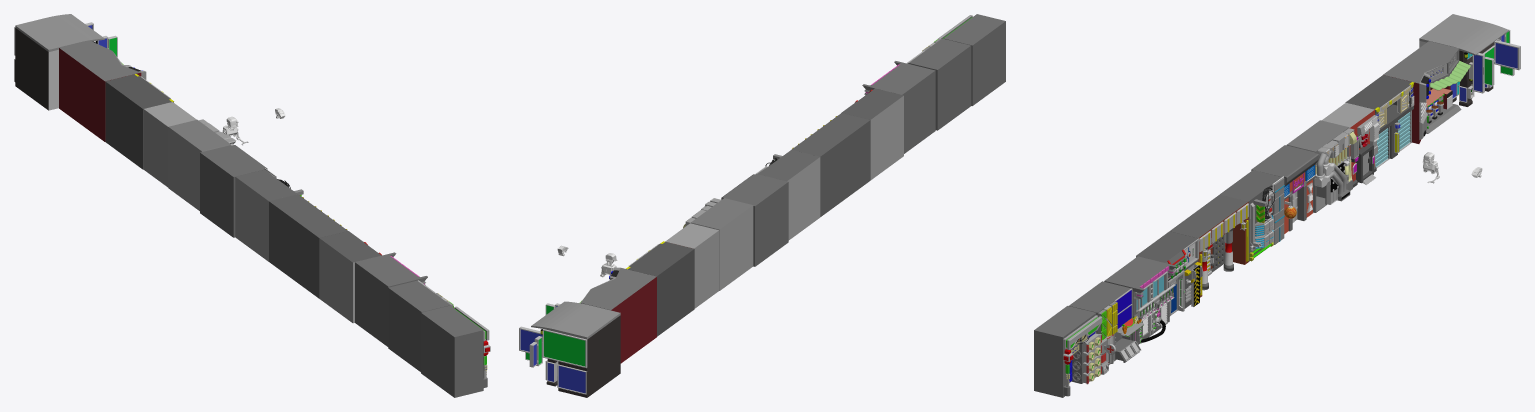
The model's file is Cyberpunk Street Low Poly.fbx.
3 renders of one model, left to right at view 1: azimuth 30°, elevation 25°; view 2: azimuth 150°, elevation 25°; view 3: azimuth 330°, elevation 25°, orthographic.
Parts seen in each view (by area): view 1: BezierCurve, Cube.005, Plane.007, Plane.003, Plane, Plane.002, Plane.008, Plane.004, Plane.006, Cube.008, Plane.009, Plane.001; view 2: Cube.005, Plane.007, Plane.003, Plane, Plane.004, Plane.002, Plane.009, BezierCurve, Plane.008, Cube.008, Plane.006, Plane.001; view 3: BezierCurve, Cube.005, Plane.003, Plane.007, Plane.004, Plane.008, Plane, Plane.009, Cube.008, Plane.002, Plane.006, Plane.001.
Part boxes in pixels (x1,y1,x2,y2): BezierCurve: [421, 305, 490, 397]; Cube.005: [14, 14, 117, 110]; Plane.007: [269, 194, 347, 298]; Plane.003: [59, 40, 146, 141]; Plane: [105, 74, 173, 169]; Plane.002: [200, 145, 267, 237]; Plane.008: [355, 252, 427, 346]; Plane.004: [168, 119, 235, 210]; Plane.006: [319, 231, 381, 323]; Cube.008: [235, 168, 303, 261]; Plane.009: [388, 280, 453, 371]; Plane.001: [143, 102, 196, 187]; Cube.005: [519, 301, 620, 397]; Plane.007: [791, 113, 870, 216]; Plane.003: [579, 267, 656, 363]; Plane: [626, 241, 694, 336]; Plane.004: [683, 198, 753, 290]; Plane.002: [721, 174, 788, 266]; Plane.009: [907, 38, 971, 130]; BezierCurve: [938, 14, 1005, 105]; Plane.008: [862, 61, 935, 153]; Cube.008: [755, 150, 820, 240]; Plane.006: [841, 88, 903, 179]; Plane.001: [665, 223, 719, 308]; BezierCurve: [1034, 306, 1102, 397]; Cube.005: [1419, 14, 1520, 106]; Plane.003: [1383, 41, 1470, 143]; Plane.007: [1170, 194, 1248, 297]; Plane.004: [1286, 120, 1356, 212]; Plane.008: [1104, 256, 1177, 344]; Plane: [1345, 75, 1414, 167]; Plane.009: [1069, 281, 1143, 374]; Cube.008: [1220, 170, 1284, 261]; Plane.002: [1251, 145, 1318, 233]; Plane.006: [1136, 231, 1202, 322]; Plane.001: [1322, 102, 1378, 187].
Bounding box in the file's own units: 2030 × 819 × 10505.
